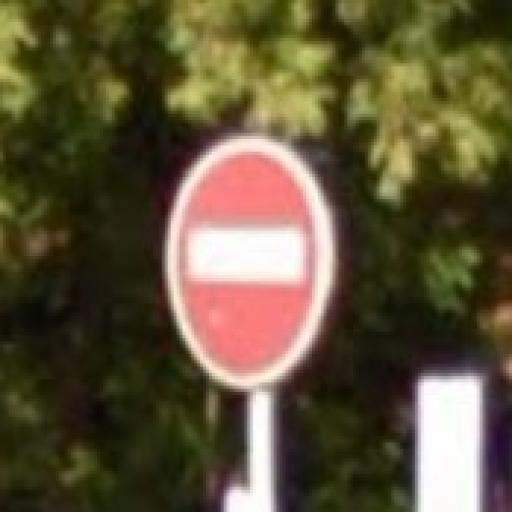traffic_sign: (163, 137, 339, 393)
